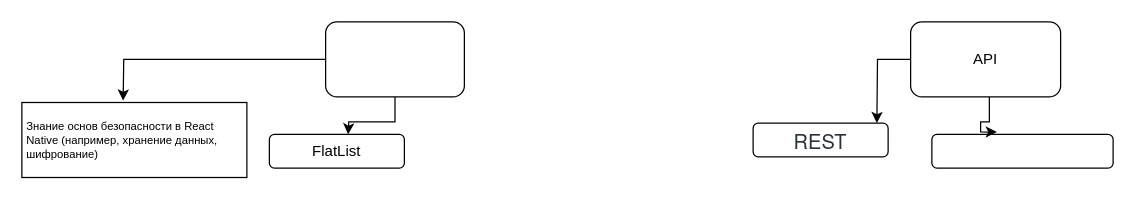
This 1135x200 diagram has some shape labels left out. Here are the shapes that lost their labels. From the top down, the centre of each, then its label:
At point (394, 59): "React Native".
At point (1022, 150): "GraphQL + Apollo".
